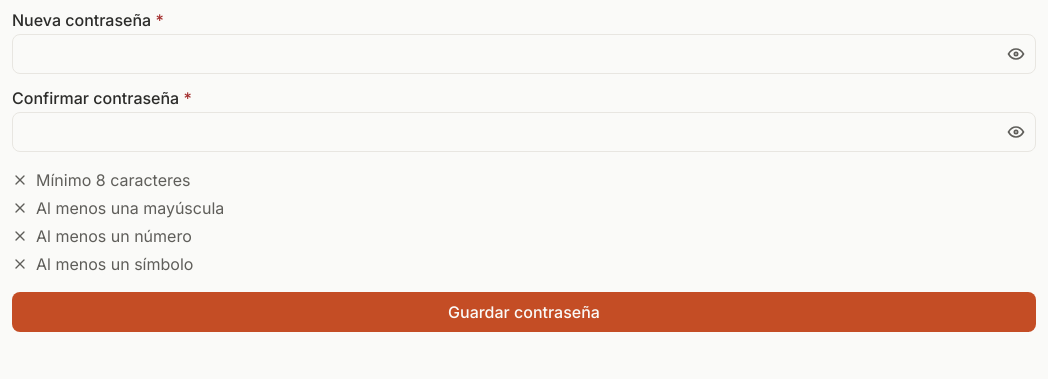
Scenario: NewPasswordForm › rejects a password missing the required complexity on submit
Type "todaminuscula" into the password field labelled "Nueva contraseña" at (524, 54), box [12,34,1036,74]
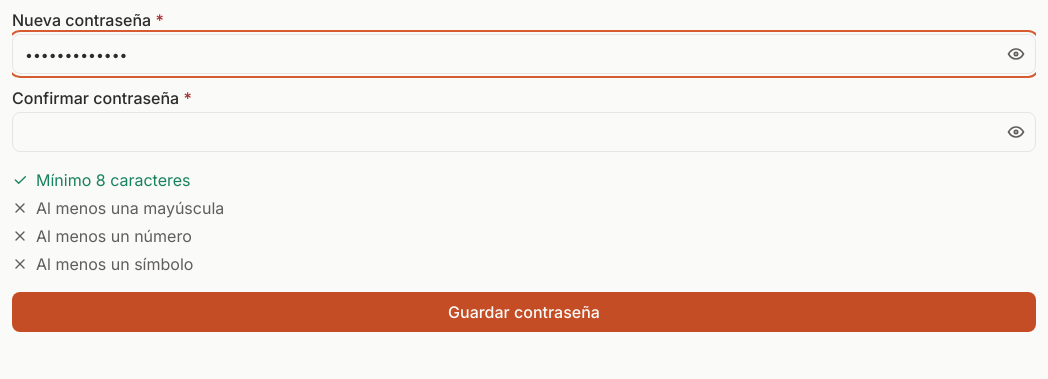
Type "todaminuscula" into the password field labelled "Confirmar contraseña" at (524, 132), box [12,112,1036,152]
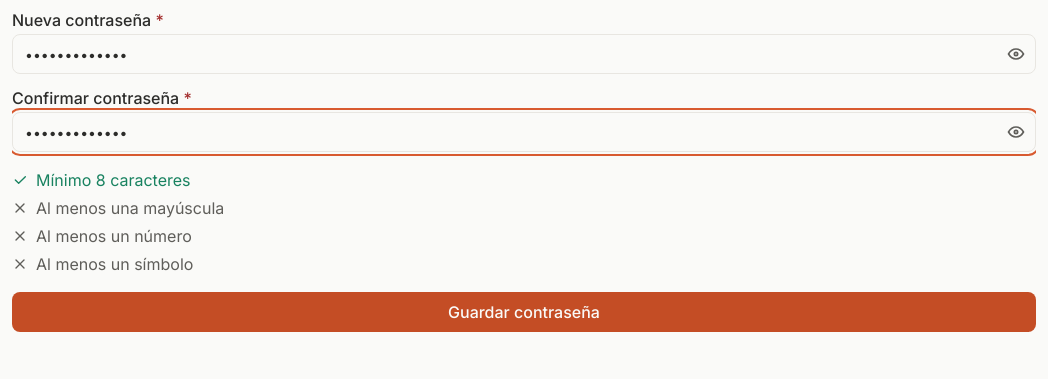
Click the button "Guardar contraseña" at (524, 312), box [12,292,1036,332]
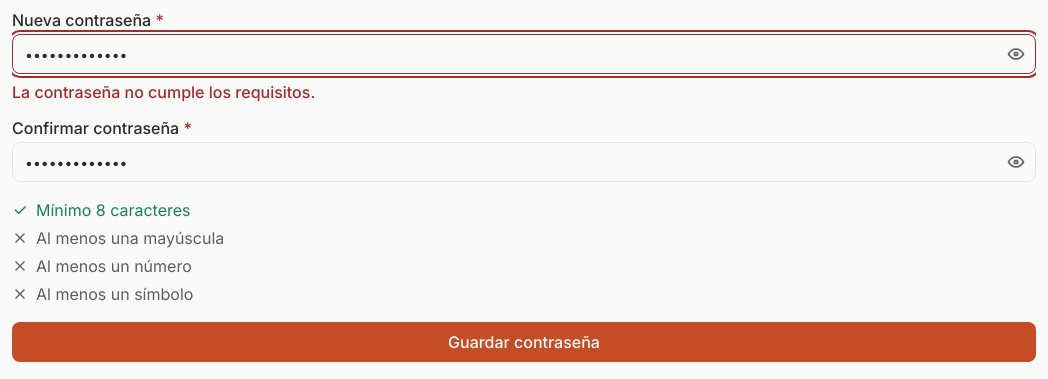
Result: the message shows "no cumple los requisitos" at [12,82,315,102]
